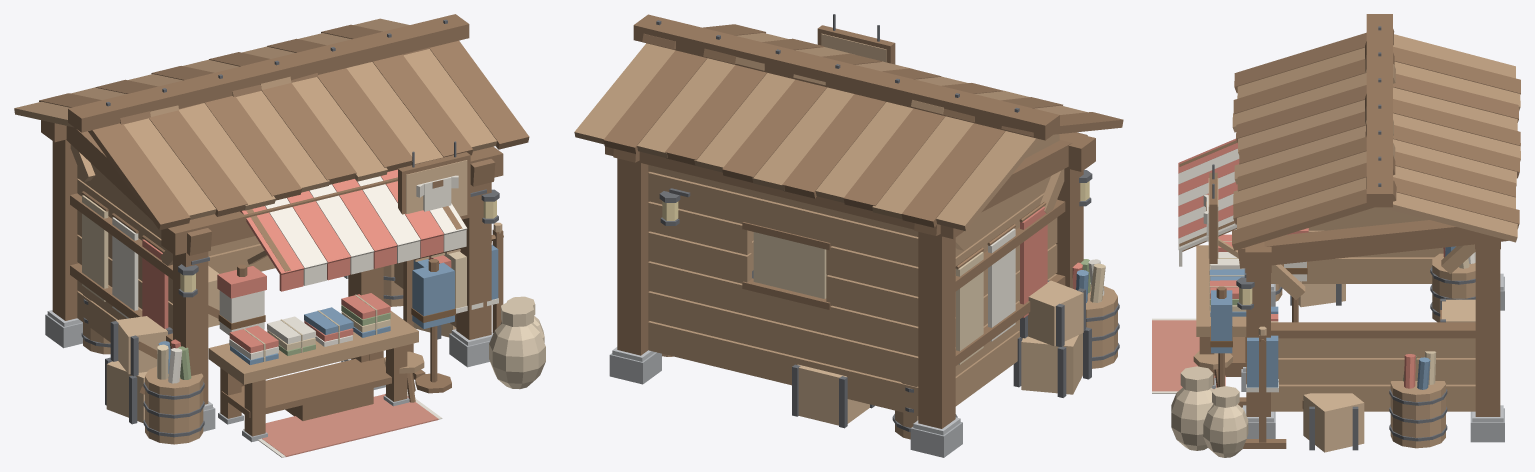
Rendered from Stylized_Cloth_Shop.fbx.
3 renders of one model, left to right at view 1: azimuth 30°, elevation 25°; view 2: azimuth 150°, elevation 25°; view 3: azimuth 270°, elevation 25°, orthographic. The views are drawn at different scales.
Parts seen in each view (by area): view 1: Ridge_Cap, Rug_Center, Table_Top, Table_Shelf, Timber_Post_2, Roof_F_0, Timber_Post_1, Roof_F_12, Roof_F_2, Roof_F_4, Roof_F_10, Timber_Post_0 (+64 smaller); view 2: Ridge_Cap, Wall_Back_1, Wall_Back_2, Wall_Back_5, Timber_Post_2, Wall_Back_0, Timber_Post_3, Roof_B_0, Roof_B_1, Roof_B_5, Window_Curtain, Roof_B_11 (+45 smaller); view 3: Side_Tie_1.9, Ridge_Cap, Wall_Right_1, Timber_Post_3, Wall_Right_2, Right_Wall_Sill, Wall_Left_0, Wall_Right_0, Roof_F_12, Barrel_1, Rug_Center, Crate_2 (+61 smaller).
Part boxes in pixels (x1,y1,x2,y2): Ridge_Cap: [68, 14, 469, 132]; Rug_Center: [262, 394, 438, 456]; Table_Top: [208, 311, 418, 384]; Table_Shelf: [221, 357, 391, 417]; Timber_Post_2: [52, 139, 78, 320]; Roof_F_0: [88, 123, 190, 230]; Timber_Post_1: [456, 182, 491, 339]; Roof_F_12: [429, 40, 529, 149]; Roof_F_2: [149, 110, 247, 216]; Roof_F_4: [205, 96, 301, 200]; Roof_F_10: [372, 54, 473, 157]; Timber_Post_0: [173, 251, 208, 404]; Ridge_Cap: [633, 14, 1059, 140]; Wall_Back_1: [648, 291, 918, 386]; Wall_Back_2: [648, 261, 918, 356]; Wall_Back_5: [648, 172, 918, 266]; Timber_Post_2: [918, 232, 955, 428]; Wall_Back_0: [648, 321, 918, 415]; Timber_Post_3: [617, 158, 649, 355]; Roof_B_0: [936, 131, 1040, 230]; Roof_B_1: [901, 123, 1005, 227]; Roof_B_5: [782, 94, 885, 198]; Window_Curtain: [753, 232, 826, 298]; Roof_B_11: [603, 50, 707, 153]; Side_Tie_1.9: [1238, 220, 1508, 268]; Ridge_Cap: [1366, 14, 1392, 207]; Wall_Right_1: [1278, 358, 1475, 384]; Timber_Post_3: [1475, 249, 1500, 416]; Wall_Right_2: [1278, 338, 1475, 357]; Right_Wall_Sill: [1271, 322, 1475, 338]; Wall_Left_0: [1271, 257, 1433, 283]; Wall_Right_0: [1271, 384, 1475, 411]; Roof_F_12: [1232, 180, 1396, 250]; Barrel_1: [1390, 381, 1445, 448]; Rug_Center: [1152, 320, 1225, 391]; Crate_2: [1303, 393, 1364, 452].
Size of the model in its own units: 520 by 373 by 450.
